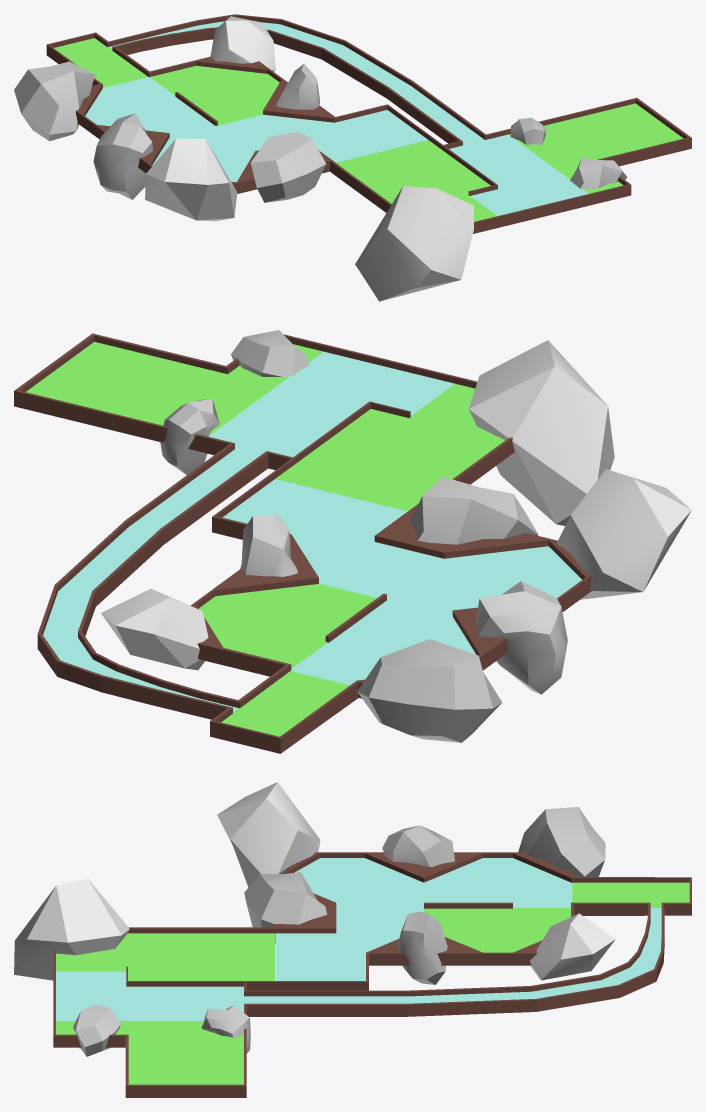
The picture shows the model from 3 angles, top to bottom: view 1: azimuth 30°, elevation 25°; view 2: azimuth 150°, elevation 25°; view 3: azimuth 270°, elevation 25°; orthographic projection. The views are drawn at different scales.
Visible parts, largest first — view 1: Cube.083, Cube.084, Cube.079, rock.316, Cube.080, rock.322, Cube.085, rock.321, rock.315, rock.320, rock.317, Cube.082 (+3 smaller); view 2: Cube.083, Cube.079, Cube.084, Cube.080, rock.316, rock.322, rock.321, Cube.085, rock.320, rock.315, rock.317, Cube.082 (+3 smaller); view 3: Cube.083, Cube.084, Cube.079, Cube.080, rock.316, rock.322, Cube.085, rock.321, rock.317, rock.315, rock.319, Cube.082 (+3 smaller).
Part boxes in pixels (box(x1,y1,x2,y2)): Cube.083: box(46, 14, 691, 233); Cube.084: box(85, 77, 428, 182); Cube.079: box(336, 103, 683, 221); rock.316: box(355, 186, 473, 301); Cube.080: box(109, 21, 588, 215); rock.322: box(145, 138, 237, 221); Cube.085: box(150, 65, 279, 125); rock.321: box(14, 61, 94, 141); rock.315: box(250, 131, 326, 202); rock.320: box(93, 113, 153, 199); rock.317: box(210, 16, 275, 71); Cube.082: box(54, 38, 147, 87); Cube.083: box(14, 333, 591, 753); Cube.079: box(26, 342, 505, 510); Cube.084: box(222, 479, 581, 685); Cube.080: box(43, 351, 454, 711); rock.316: box(468, 340, 614, 525); rock.322: box(557, 469, 691, 599); rock.321: box(357, 639, 502, 742); Cube.085: box(199, 584, 376, 668); rock.320: box(476, 581, 567, 694); rock.315: box(410, 477, 538, 544); rock.317: box(101, 588, 208, 670); Cube.082: box(221, 671, 349, 736); Cube.083: box(53, 852, 691, 1097); Cube.084: box(275, 858, 572, 980); Cube.079: box(56, 933, 274, 1084); Cube.080: box(56, 908, 661, 1020); rock.316: box(14, 878, 129, 980); rock.322: box(217, 782, 320, 887); Cube.085: box(424, 908, 570, 952); rock.321: box(518, 807, 605, 876); rock.317: box(530, 913, 615, 980); rock.315: box(244, 872, 327, 943); rock.319: box(397, 911, 447, 984); Cube.082: box(572, 882, 689, 907).
Bounding box in the file's own units: 2039 × 525 × 2286.
